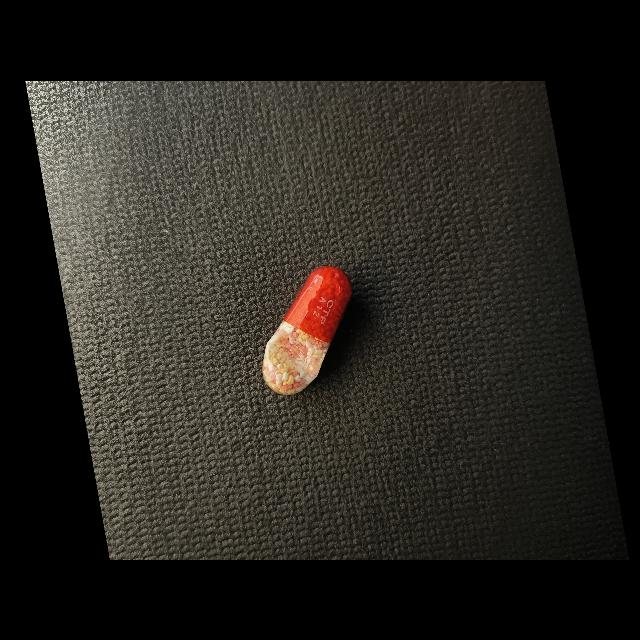Defective Capsule: (262, 265, 351, 394)
